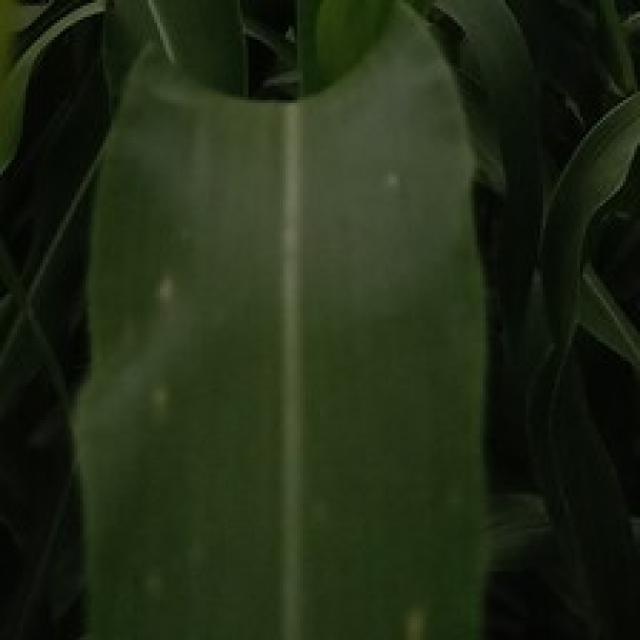Corn: (66, 0, 494, 637), (0, 0, 109, 637), (529, 69, 637, 637)
